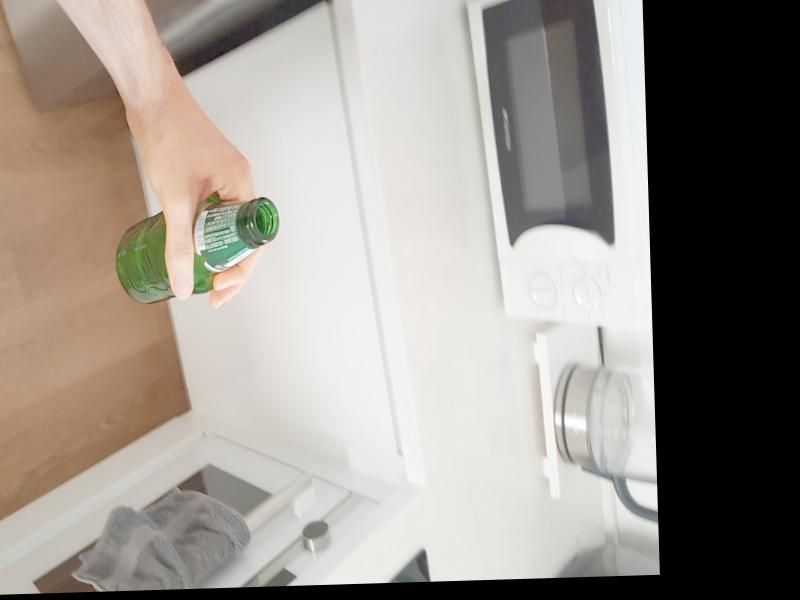Beer: (113, 196, 279, 304)
